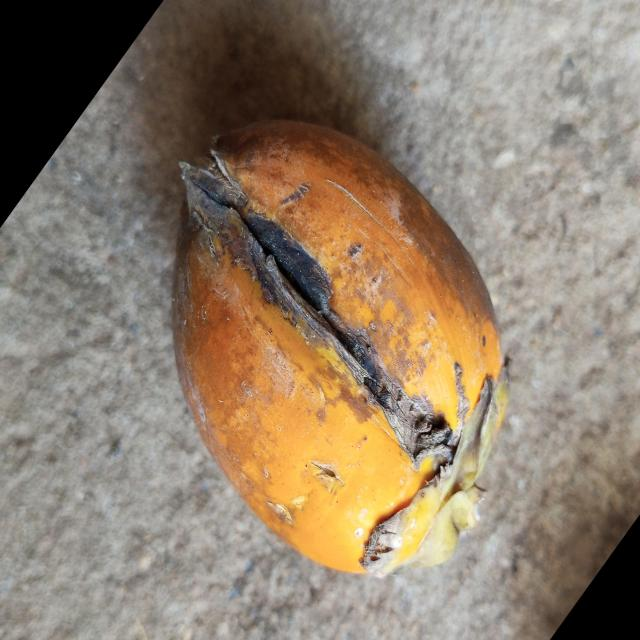damaged: (170, 121, 509, 580)
